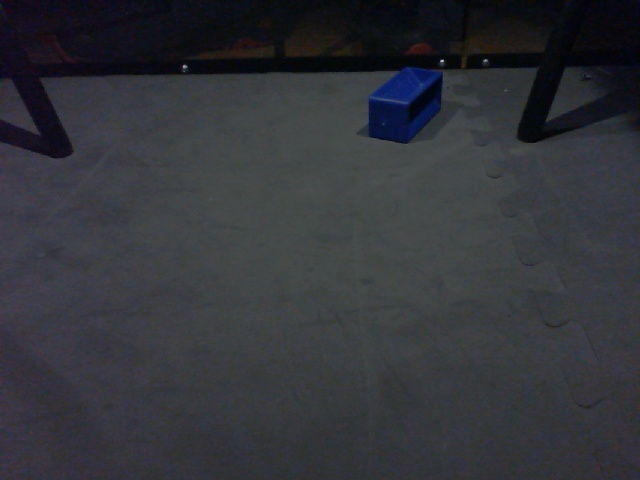BlueSample: (366, 64, 446, 146)
